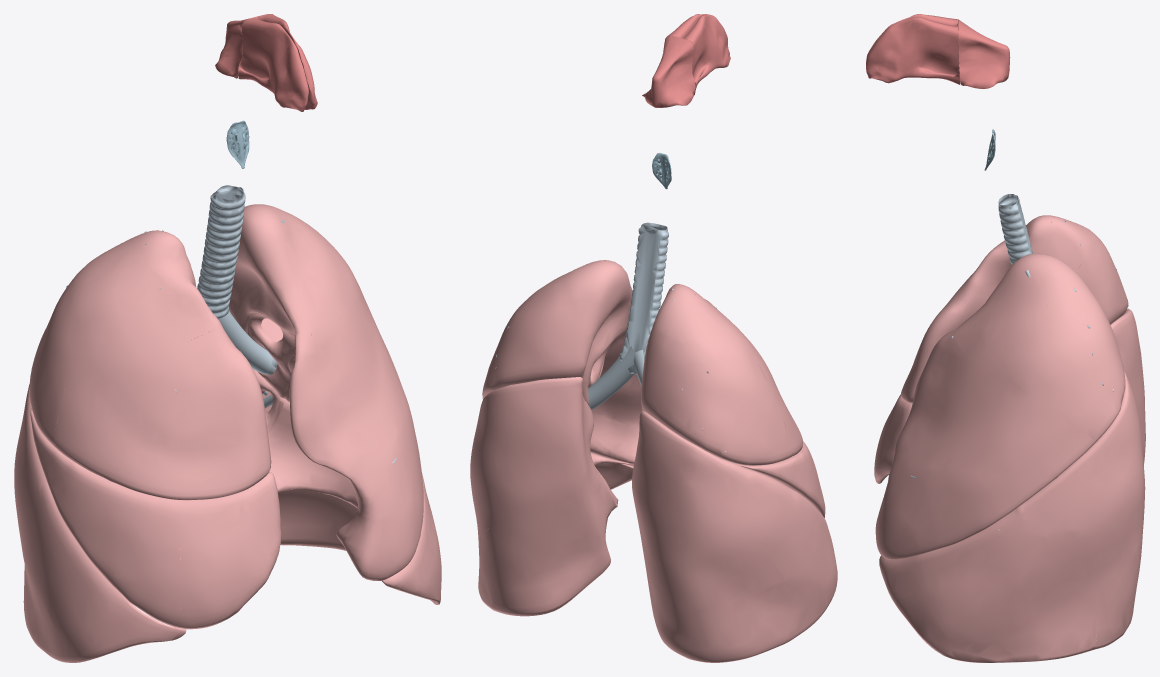
File: sistema-respiratorio.glb
3 renders of one model, left to right at view 1: azimuth 30°, elevation 25°; view 2: azimuth 150°, elevation 25°; view 3: azimuth 270°, elevation 25°, orthographic. The views are drawn at different scales.
Parts seen in each view (by area): view 1: Superior lobe of right lung, Superior lobe of left lung, Middle lobe of right lung, Inferior lobe of right lung, Inferior lobe of left lung, Mucosa of nasal cavity, Trachea, Left main bronchus, Nasopharynx, Epiglottis; view 2: Inferior lobe of right lung, Inferior lobe of left lung, Superior lobe of right lung, Superior lobe of left lung, Trachea, Nasopharynx, Mucosa of nasal cavity, Middle lobe of right lung, Left main bronchus; view 3: Superior lobe of left lung, Inferior lobe of left lung, Superior lobe of right lung, Mucosa of nasal cavity, Nasopharynx, Inferior lobe of right lung, Trachea, Middle lobe of right lung.
Part boxes in pixels (x1,y1,x2,y2): Superior lobe of right lung: (29,230,271,500); Superior lobe of left lung: (229,204,423,580); Middle lobe of right lung: (30,408,281,629); Inferior lobe of right lung: (14,384,186,662); Inferior lobe of left lung: (253,318,441,604); Mucosa of nasal cavity: (238,14,317,111); Trachea: (197,185,245,318); Left main bronchus: (218,311,272,373); Nasopharynx: (215,15,261,78); Epiglottis: (226,120,249,168); Inferior lobe of right lung: (632,411,837,662); Inferior lobe of left lung: (470,377,633,616); Superior lobe of right lung: (641,284,802,465); Superior lobe of left lung: (482,260,642,466); Trachea: (618,222,668,374); Nasopharynx: (642,36,695,107); Mucosa of nasal cavity: (667,14,730,90); Middle lobe of right lung: (733,441,825,517); Left main bronchus: (588,346,634,410); Superior lobe of left lung: (875,253,1125,559); Inferior lobe of left lung: (879,371,1145,662); Superior lobe of right lung: (901,215,1128,402); Mucosa of nasal cavity: (866,14,960,84); Nasopharynx: (958,19,1010,88); Inferior lobe of right lung: (1110,308,1145,465); Trachea: (998,194,1032,264); Middle lobe of right lung: (874,394,912,483).
Bounding box in the file's own units: 0.261 × 0.4305 × 0.1913.
